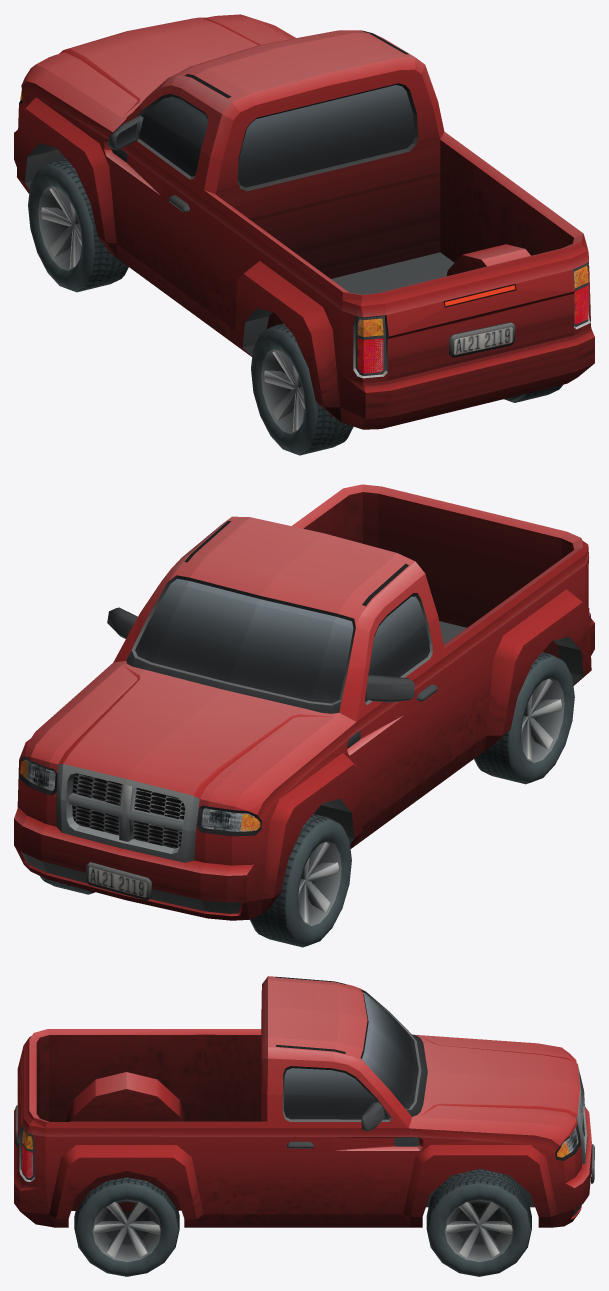
File: VHC0110014.FBX
The picture shows the model from 3 angles, top to bottom: view 1: azimuth 30°, elevation 25°; view 2: azimuth 150°, elevation 25°; view 3: azimuth 270°, elevation 25°; orthographic projection. The views are drawn at different scales.
Parts seen in each view (by area): view 1: smVHC0110014; view 2: smVHC0110014; view 3: smVHC0110014.
Boxes of the visible parts, x1,y1,x2,y2 form: smVHC0110014: (14,14,594,455); smVHC0110014: (14,484,594,947); smVHC0110014: (14,976,594,1276).
Size of the model in its own units: 271 by 237 by 561.
Materials: 1 (1 with a texture image).
